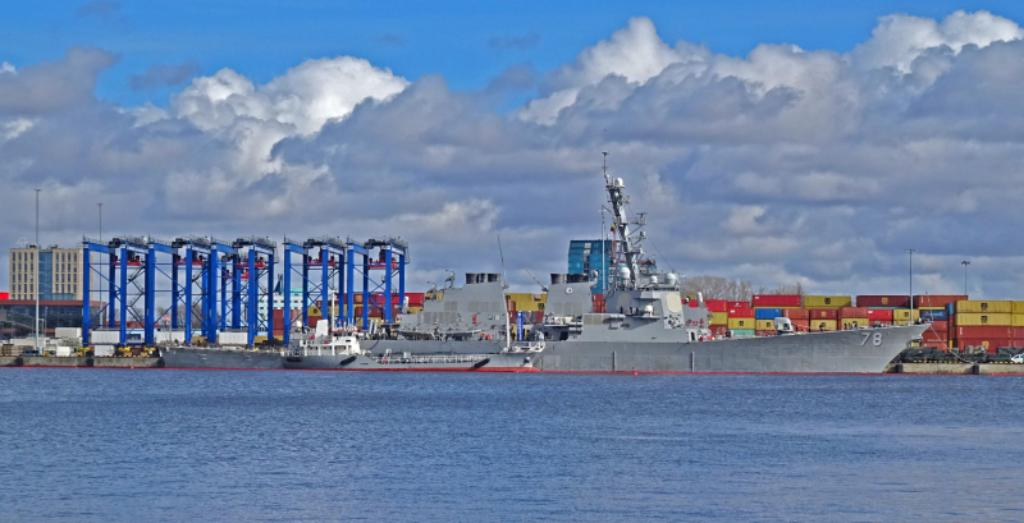Warship: (155, 149, 931, 377)
